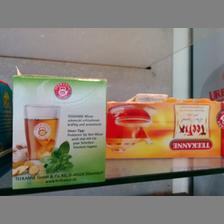Tee: (10, 75, 106, 190), (105, 100, 222, 160)
